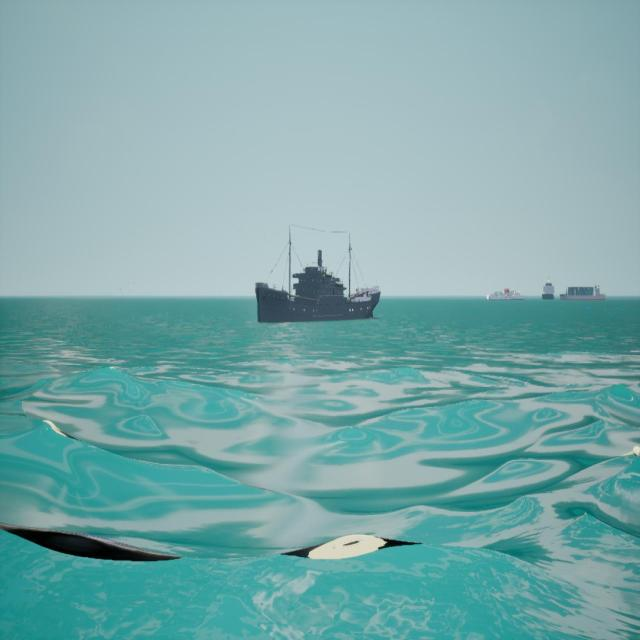fishing ship: (255, 225, 382, 325)
